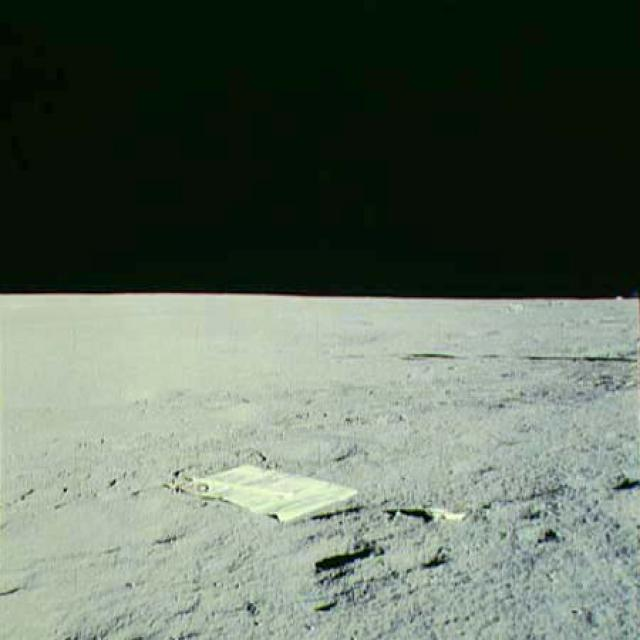crater: (0, 492, 228, 574), (278, 531, 385, 578)
